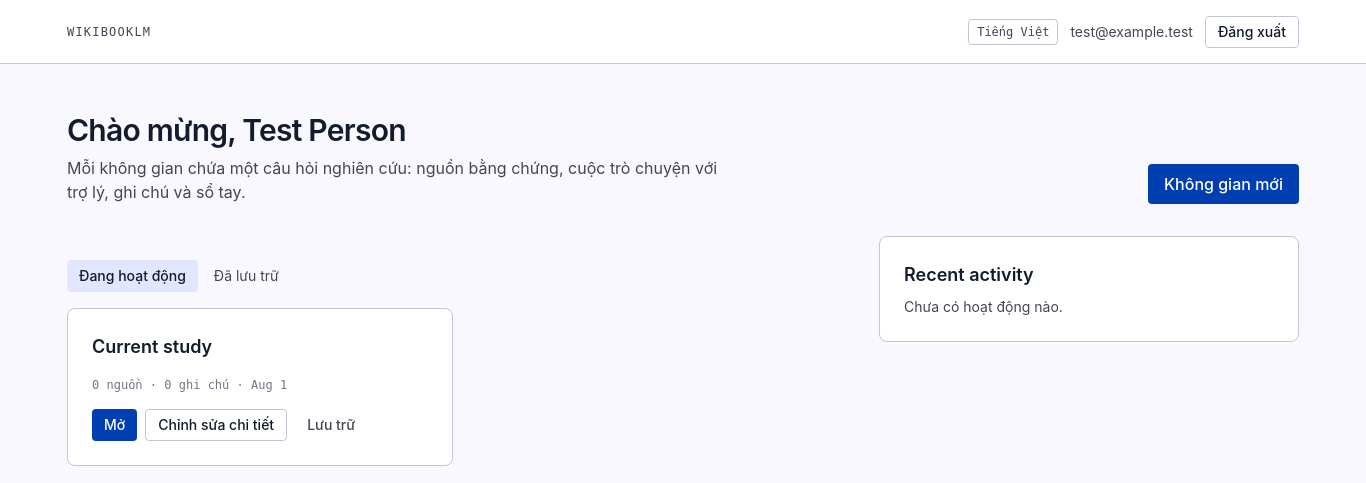
Test: HomePage › switches between the active and archived lists
The image size is (1366, 483).
expect the heading "Current study" is shown: met, box x1=92 y1=333 x2=212 y2=361
Click the tab "Đã lưu trữ": (246, 276) x1=202 y1=260 x2=291 y2=292
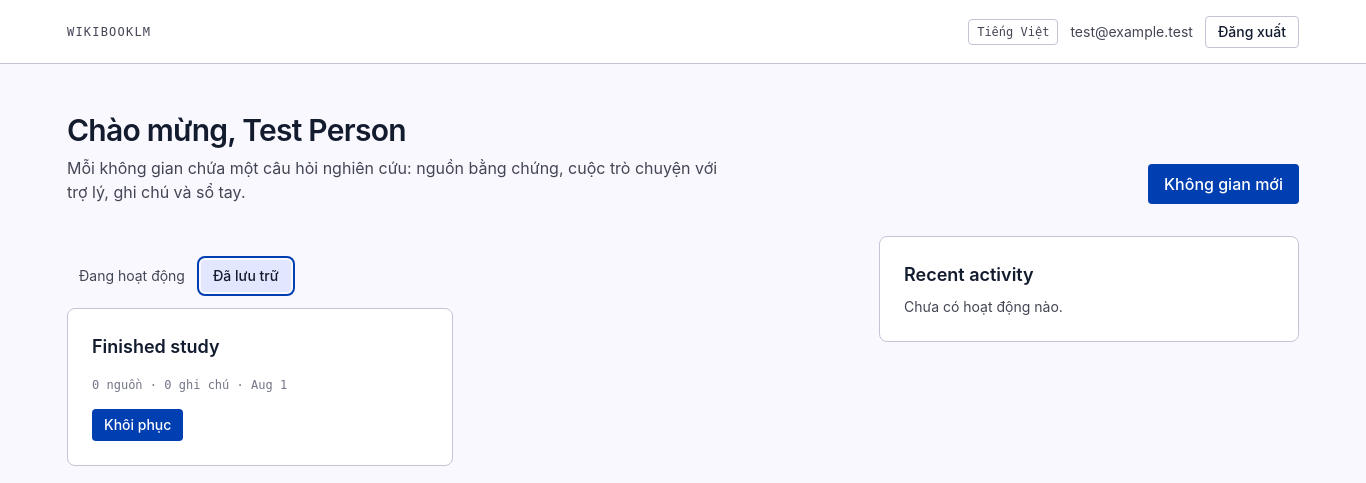
expect the heading "Finished study" is shown: met, box x1=92 y1=333 x2=220 y2=361
expect the link "Current study" is gone: met
